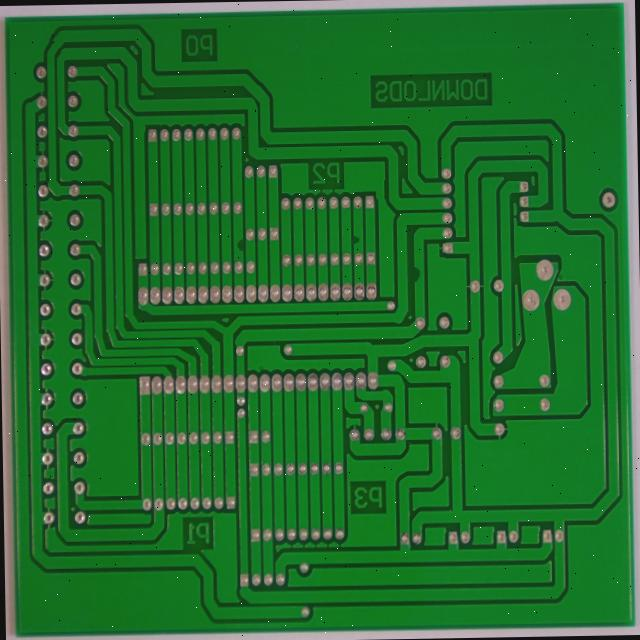mouse_bite: (440, 214, 457, 243), (252, 186, 265, 205), (375, 180, 387, 199)
